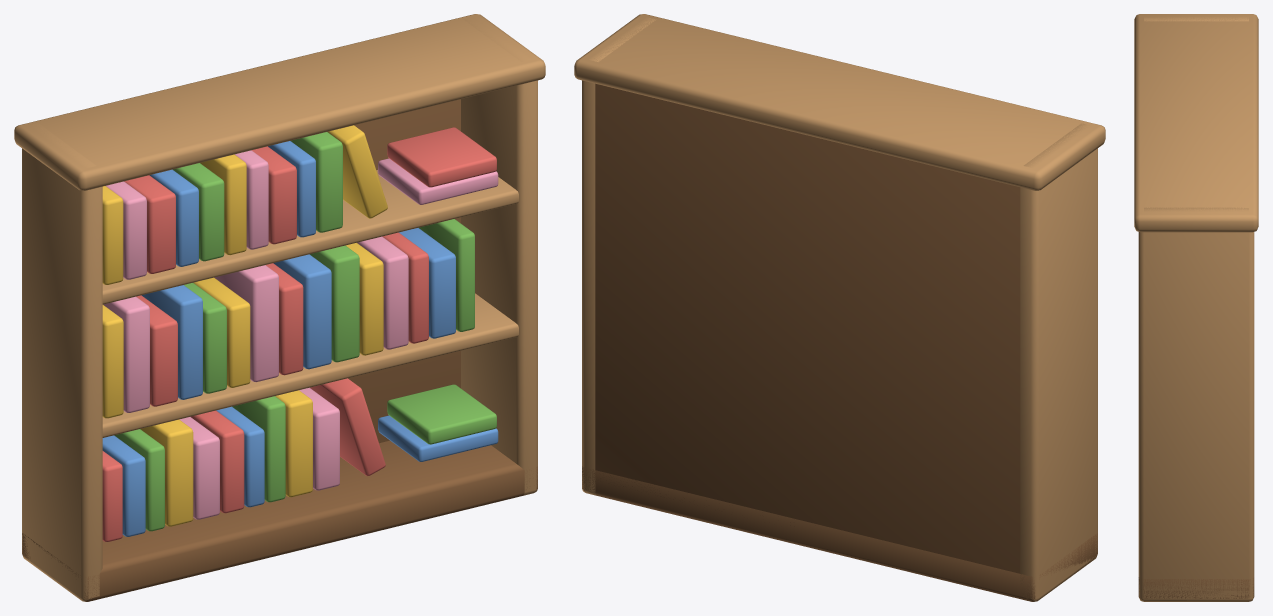
File: bookshelf.glb
3 renders of one model, left to right at view 1: azimuth 30°, elevation 25°; view 2: azimuth 150°, elevation 25°; view 3: azimuth 270°, elevation 25°, orthographic. The views are drawn at different scales.
Visible parts, largest first — view 1: shelf; view 2: shelf; view 3: shelf.
Boxes of the visible parts, <box> form: shelf: <box>14,14,545,601</box>; shelf: <box>574,14,1105,601</box>; shelf: <box>1134,14,1258,601</box>.
Bounding box in the file's own units: 1.76 × 1.56 × 0.45.
